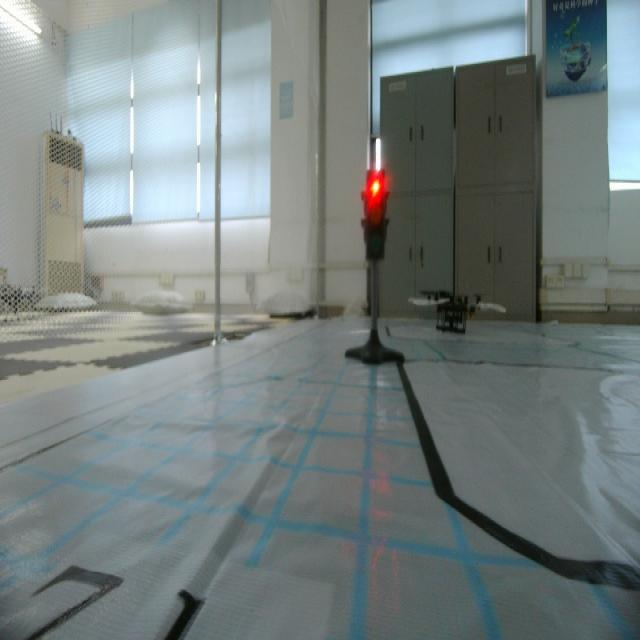red: (361, 170, 392, 264)
